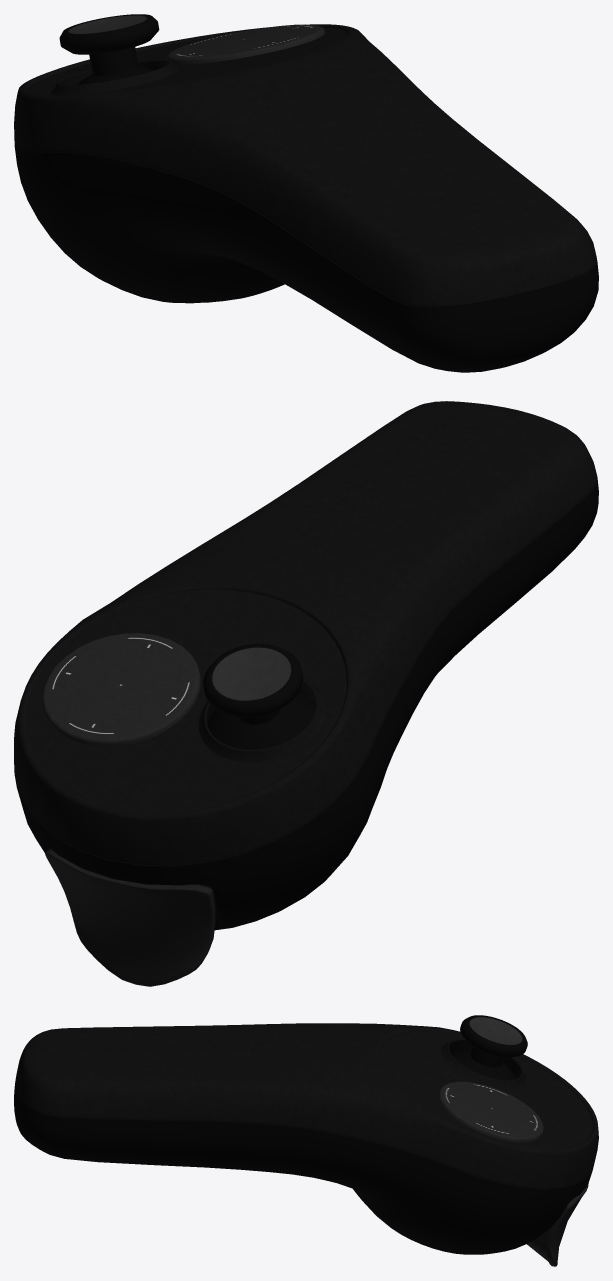
3 views of the same model, one above another, from view 1: azimuth 30°, elevation 25°; view 2: azimuth 150°, elevation 25°; view 3: azimuth 270°, elevation 25° (orthographic). The views are drawn at different scales.
Visible parts, largest first — view 1: Body, Plate16, ThumpStick, TouchPad; view 2: Body, Plate16, TouchPad, trigger, ThumpStick; view 3: Body, Plate16, TouchPad, ThumpStick, trigger.
Boxes of the visible parts, x1=… form: Body: x1=14, y1=24, x2=598, y2=372; Plate16: x1=26, y1=27, x2=346, y2=95; ThumpStick: x1=59, y1=14, x2=159, y2=84; TouchPad: x1=166, y1=24, x2=325, y2=64; Body: x1=14, y1=401, x2=598, y2=930; Plate16: x1=25, y1=589, x2=346, y2=813; TouchPad: x1=41, y1=633, x2=200, y2=746; trigger: x1=45, y1=849, x2=217, y2=986; ThumpStick: x1=203, y1=643, x2=315, y2=749; Body: x1=14, y1=1023, x2=598, y2=1254; Plate16: x1=380, y1=1032, x2=592, y2=1149; TouchPad: x1=438, y1=1081, x2=543, y2=1142; ThumpStick: x1=452, y1=1015, x2=527, y2=1079; trigger: x1=527, y1=1183, x2=588, y2=1266.
Size of the model in its own units: 0.0572 by 0.0526 by 0.1295.
1 material, 1 textured.
